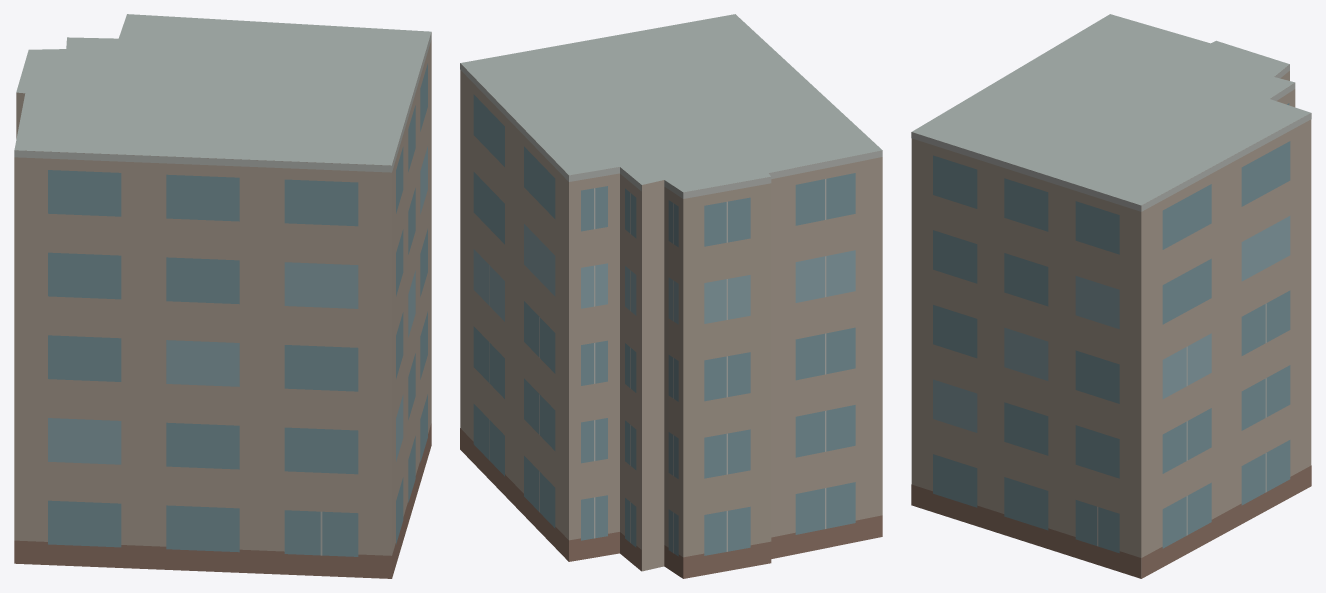
File: survey-upis-32583164.glb
The picture shows the model from 3 angles, left to right: view 1: azimuth 30°, elevation 25°; view 2: azimuth 150°, elevation 25°; view 3: azimuth 270°, elevation 25°; orthographic projection. The views are drawn at different scales.
Parts seen in each view (by area): view 1: survey-upis-32583164.tmp; view 2: survey-upis-32583164.tmp; view 3: survey-upis-32583164.tmp.
Boxes of the visible parts, left/top/right/bottom form: survey-upis-32583164.tmp: left=14, top=14, right=431, bottom=578; survey-upis-32583164.tmp: left=460, top=14, right=882, bottom=578; survey-upis-32583164.tmp: left=911, top=14, right=1311, bottom=578.
Bounding box in the file's own units: 15.74 × 14.3 × 13.89.
